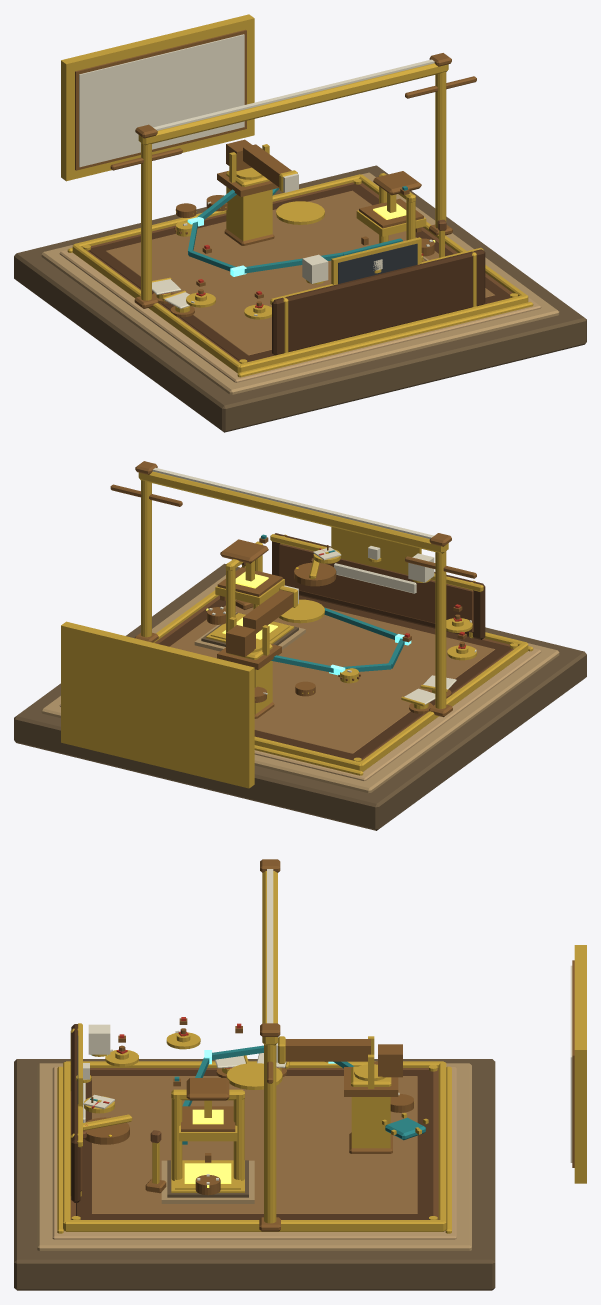
The model's file is observatory_platform.glb.
3 views of the same model, one above another, from view 1: azimuth 30°, elevation 25°; view 2: azimuth 150°, elevation 25°; view 3: azimuth 270°, elevation 25° (orthographic). The views are drawn at different scales.
Parts seen in each view (by area): view 1: Platform, VoidWindow, TelescopeMount, LcdPanel, PressPlaten, Pipes, AetherReservoir; view 2: Platform, VoidWindow, TelescopeMount, LcdPanel, PressPlaten, Pipes, Mold, Crank, AetherReservoir, InscriptionPlate; view 3: Platform, TelescopeMount, VoidWindow, PressPlaten, Mold, InscriptionPlate, Crank, Pipes, AetherReservoir, SigilSelector, InscribeLever.
Boxes of the visible parts, x1,y1,x2,y2 form: Platform: [14, 53, 586, 432]; VoidWindow: [61, 14, 254, 181]; TelescopeMount: [217, 139, 324, 241]; LcdPanel: [331, 237, 421, 284]; PressPlaten: [356, 192, 426, 236]; Pipes: [188, 189, 402, 273]; AetherReservoir: [302, 254, 328, 284]; Platform: [14, 461, 586, 830]; VoidWindow: [61, 621, 254, 788]; TelescopeMount: [217, 585, 324, 714]; LcdPanel: [331, 527, 421, 574]; PressPlaten: [215, 560, 284, 605]; Pipes: [271, 607, 404, 672]; Mold: [194, 595, 305, 651]; Crank: [294, 558, 336, 586]; AetherReservoir: [408, 553, 434, 582]; InscriptionPlate: [210, 613, 289, 641]; Platform: [14, 859, 495, 1290]; TelescopeMount: [226, 1036, 402, 1148]; VoidWindow: [570, 945, 586, 1183]; PressPlaten: [179, 1100, 237, 1141]; Mold: [161, 1153, 254, 1203]; InscriptionPlate: [175, 1160, 240, 1189]; Crank: [83, 1117, 129, 1144]; Pipes: [182, 1045, 354, 1144]; AetherReservoir: [88, 1024, 110, 1056]; SigilSelector: [382, 1112, 428, 1140]; InscribeLever: [145, 1130, 166, 1193].
Bounding box in the file's own units: 6.2 × 3.49 × 7.38.
Materials: 33 (33 with a texture image).
